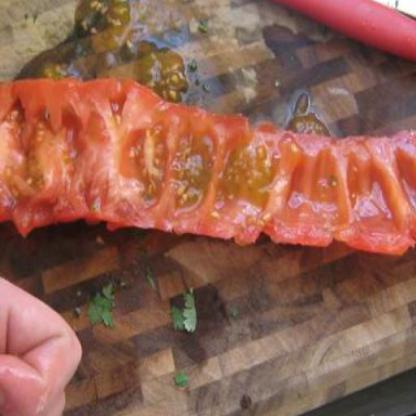knife: (73, 0, 415, 72)
